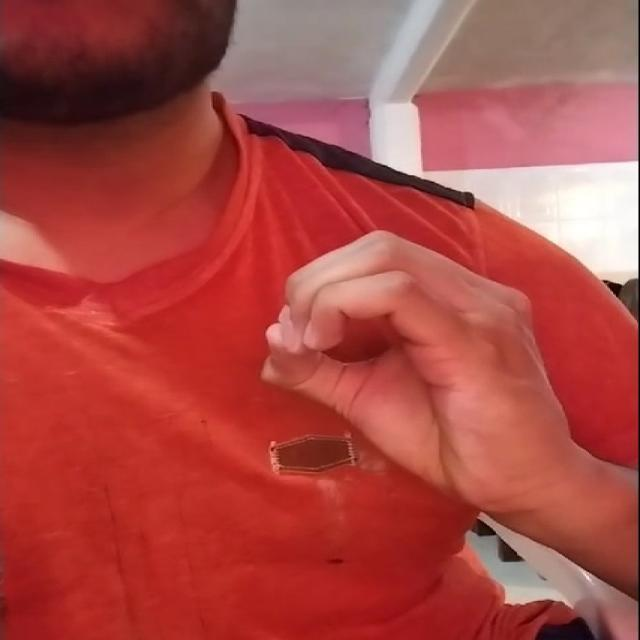O: (245, 200, 607, 540)
